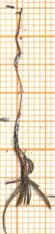flower: (1, 151, 55, 234)
root: (9, 6, 26, 119)
stem: (9, 119, 26, 154)
